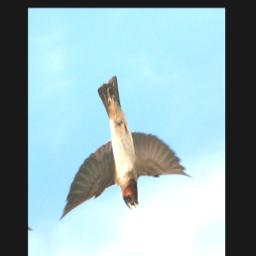Swallow: (44, 51, 197, 238)
